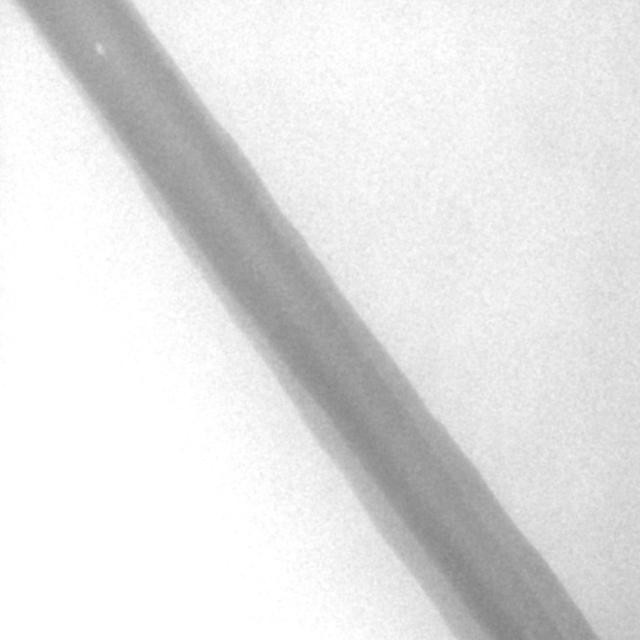air hole: (92, 39, 104, 55)
